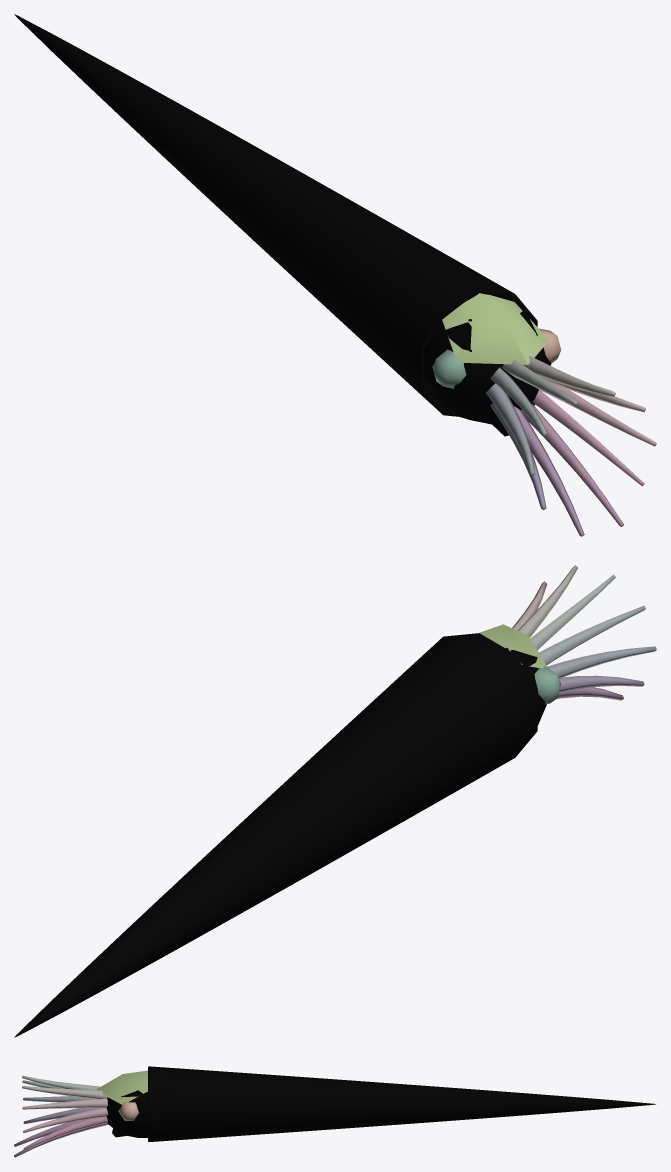
The model's file is cameroceras_lo.glb.
The picture shows the model from 3 angles, top to bottom: view 1: azimuth 30°, elevation 25°; view 2: azimuth 150°, elevation 25°; view 3: azimuth 270°, elevation 25°; orthographic projection. The views are drawn at different scales.
Visible parts, largest first — view 1: cameroceras_lo; view 2: cameroceras_lo; view 3: cameroceras_lo.
Part boxes in pixels (x1,y1,x2,y2): cameroceras_lo: (14,14,656,536); cameroceras_lo: (14,565,656,1037); cameroceras_lo: (14,1066,655,1157).
Bounding box in the file's own units: 0.7496 × 0.8567 × 6.01.
